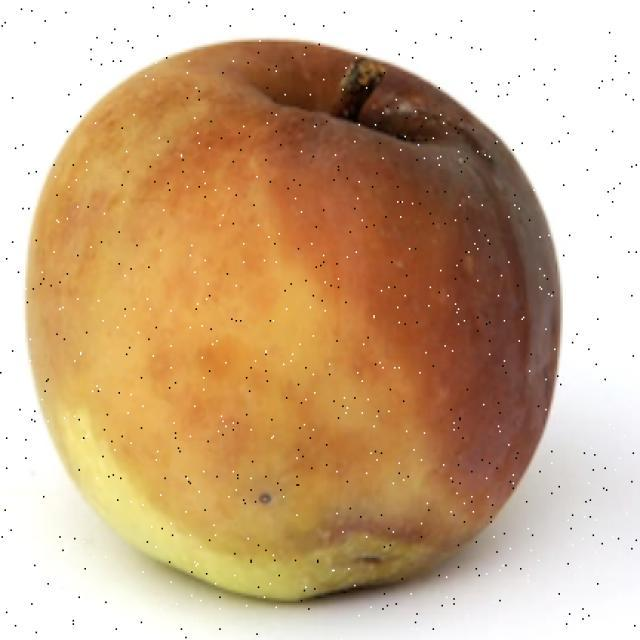Rotten: (54, 53, 578, 595)
